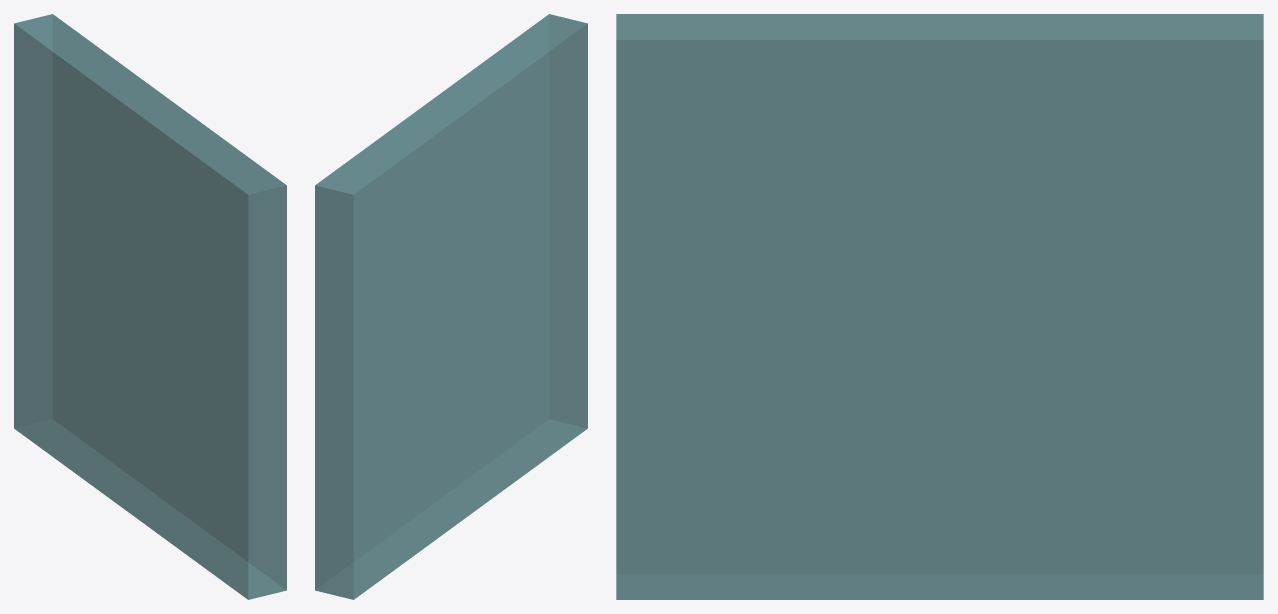
The picture shows the model from 3 angles, left to right: view 1: azimuth 30°, elevation 25°; view 2: azimuth 150°, elevation 25°; view 3: azimuth 270°, elevation 25°; orthographic projection. The views are drawn at different scales.
Visible parts, largest first — view 1: A-GF-17B3; view 2: A-GF-17B3; view 3: A-GF-17B3.
Part boxes in pixels (x1,y1,x2,y2): A-GF-17B3: [14, 14, 286, 599]; A-GF-17B3: [315, 14, 587, 599]; A-GF-17B3: [616, 14, 1263, 599].
Size of the model in its own units: 0.21 by 2.1 by 2.2.
